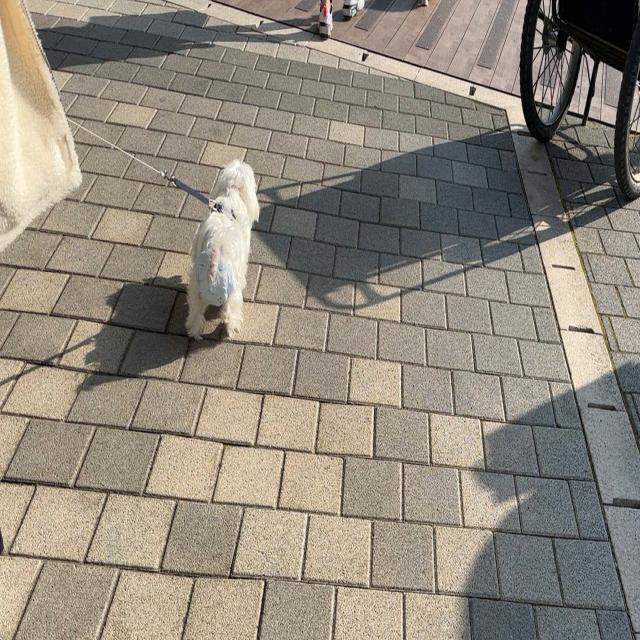Dog: (185, 158, 261, 344)
